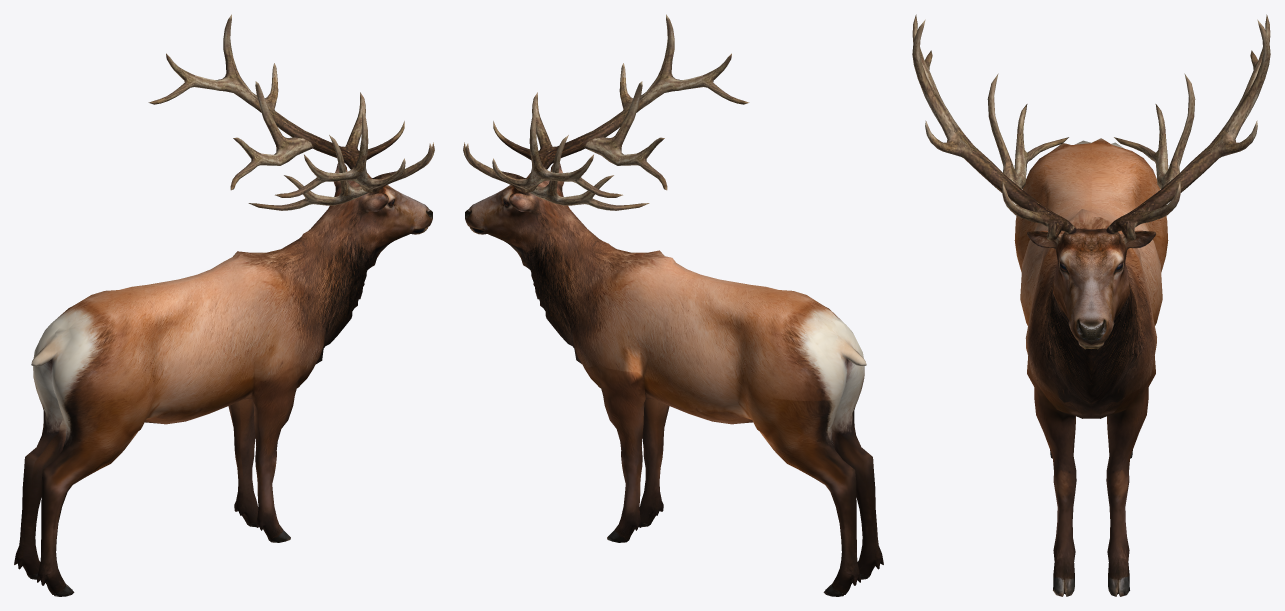
File: model9-deer.glb
The picture shows the model from 3 angles, left to right: view 1: azimuth 30°, elevation 25°; view 2: azimuth 150°, elevation 25°; view 3: azimuth 270°, elevation 25°; orthographic projection. The views are drawn at different scales.
Parts seen in each view (by area): view 1: sm_4_0_0_3, sm_1_0_0_2, sm_2_0_0_0; view 2: sm_4_0_0_3, sm_1_0_0_2, sm_2_0_0_0; view 3: sm_4_0_0_3, sm_1_0_0_2, sm_2_0_0_0.
Part boxes in pixels (<box>): sm_4_0_0_3: <box>14,217,371,596</box>; sm_1_0_0_2: <box>148,14,434,210</box>; sm_2_0_0_0: <box>321,163,432,267</box>; sm_4_0_0_3: <box>526,217,883,596</box>; sm_1_0_0_2: <box>463,14,749,210</box>; sm_2_0_0_0: <box>465,163,576,267</box>; sm_4_0_0_3: <box>1014,138,1168,596</box>; sm_1_0_0_2: <box>912,14,1270,240</box>; sm_2_0_0_0: <box>1027,228,1155,349</box>.
Size of the model in its own units: 2.23 by 2.45 by 1.35.
Materials: 4 (4 with a texture image).
